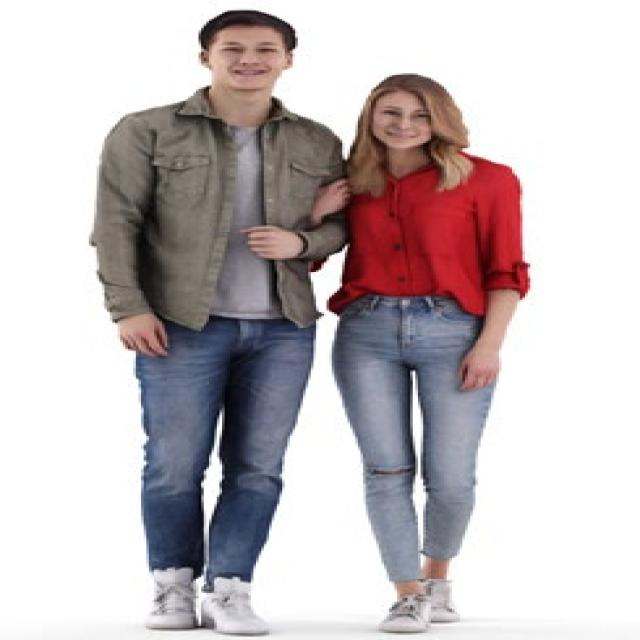standing: (84, 7, 350, 640), (322, 73, 533, 640)
